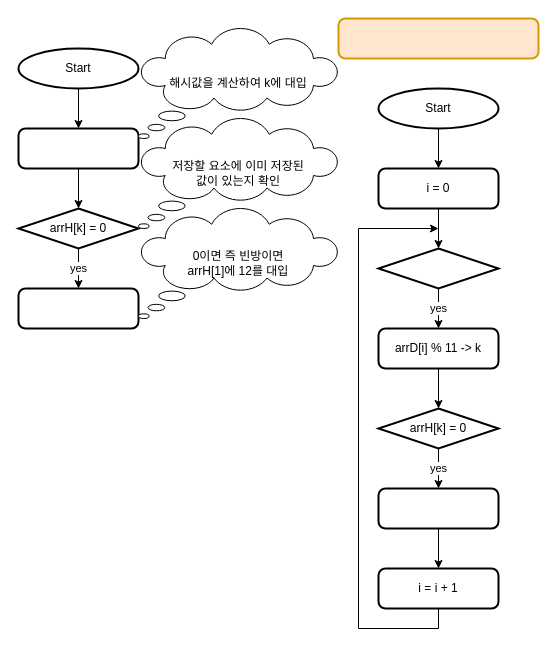
The diagram is 556 pixels wide and 654 high, and some of its shapes have lost their labels. The centre of each missing label's shape, as x and y in pixels:
"arrD[0] % 11 -> k" goes at pixel 78 148.
"arrD[0] -> arrH[k]" goes at pixel 78 308.
"arrD[i] -> arrH[k]" goes at pixel 438 508.
"Hash Search" goes at pixel 438 38.
"i < len(arrD)" goes at pixel 438 268.
